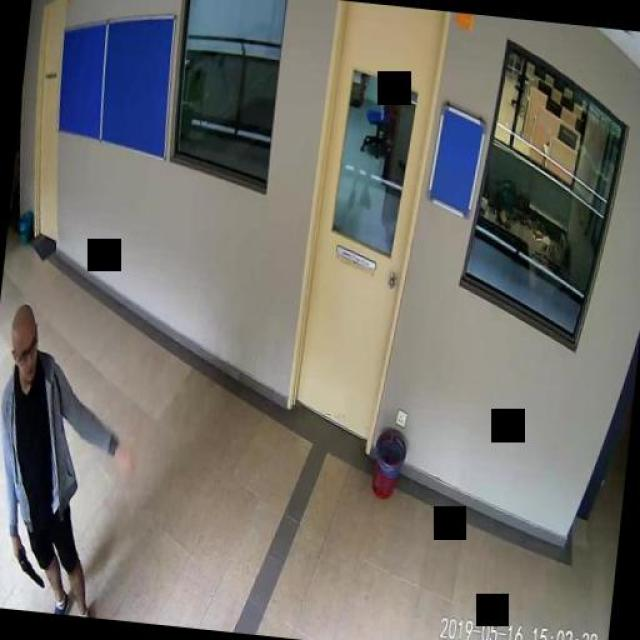gun: (11, 542, 45, 584)
